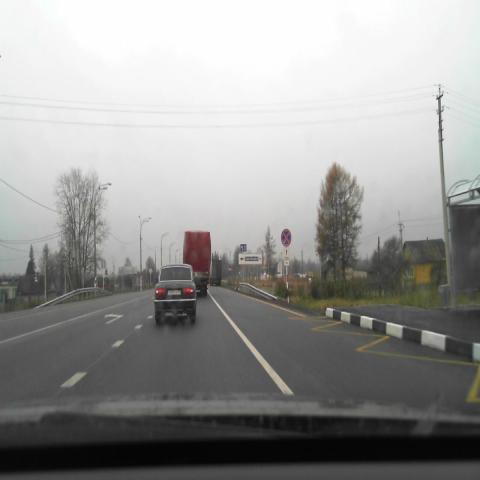3_27: (281, 228, 291, 246)
